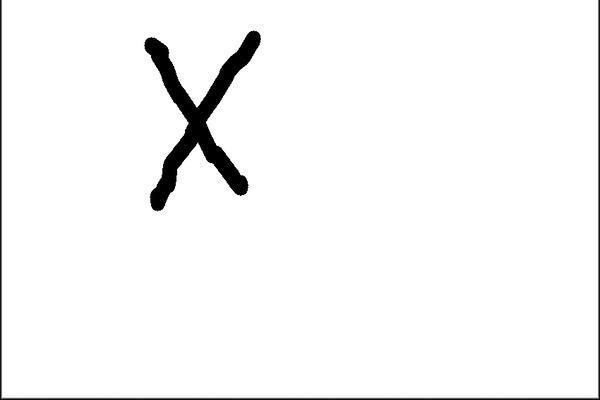X: (114, 16, 282, 221)
